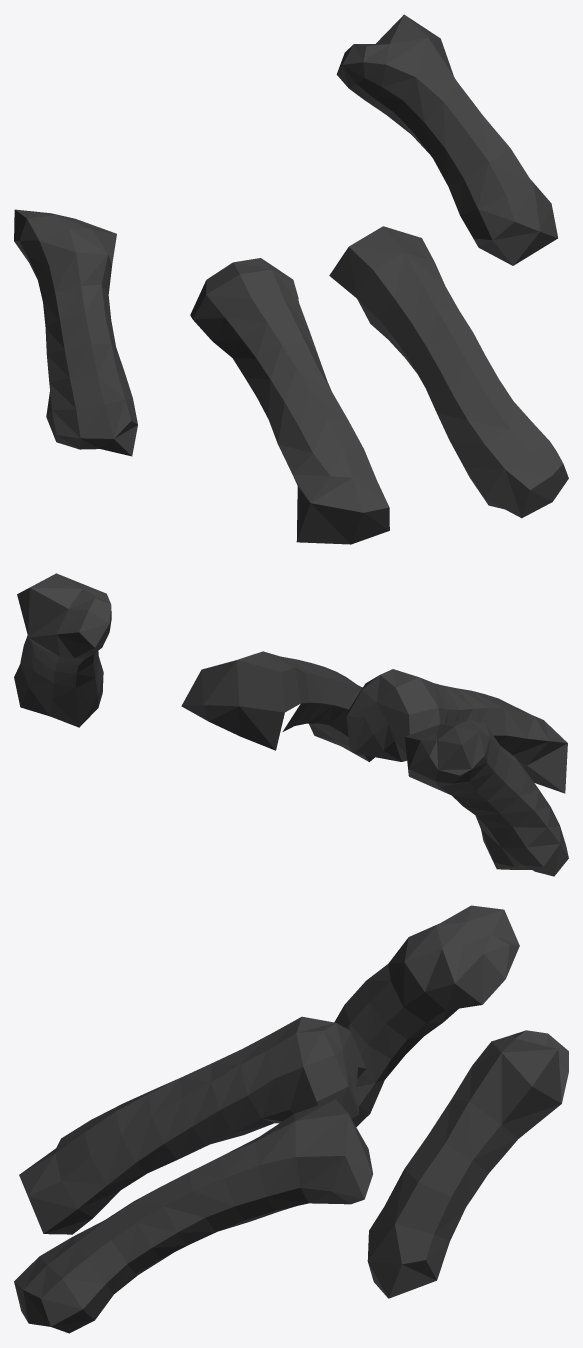
The picture shows the model from 3 angles, top to bottom: view 1: azimuth 30°, elevation 25°; view 2: azimuth 150°, elevation 25°; view 3: azimuth 270°, elevation 25°; orthographic projection. The views are drawn at different scales.
Parts seen in each view (by area): view 1: P1s_R; view 2: P1s_R; view 3: P1s_R.
Part boxes in pixels (x1=…): P1s_R: x1=14, y1=14, x2=568, y2=544; P1s_R: x1=14, y1=573, x2=568, y2=876; P1s_R: x1=14, y1=905, x2=568, y2=1333.
Size of the model in its own units: 2.8 by 1.54 by 2.31.
1 material, 1 textured.
